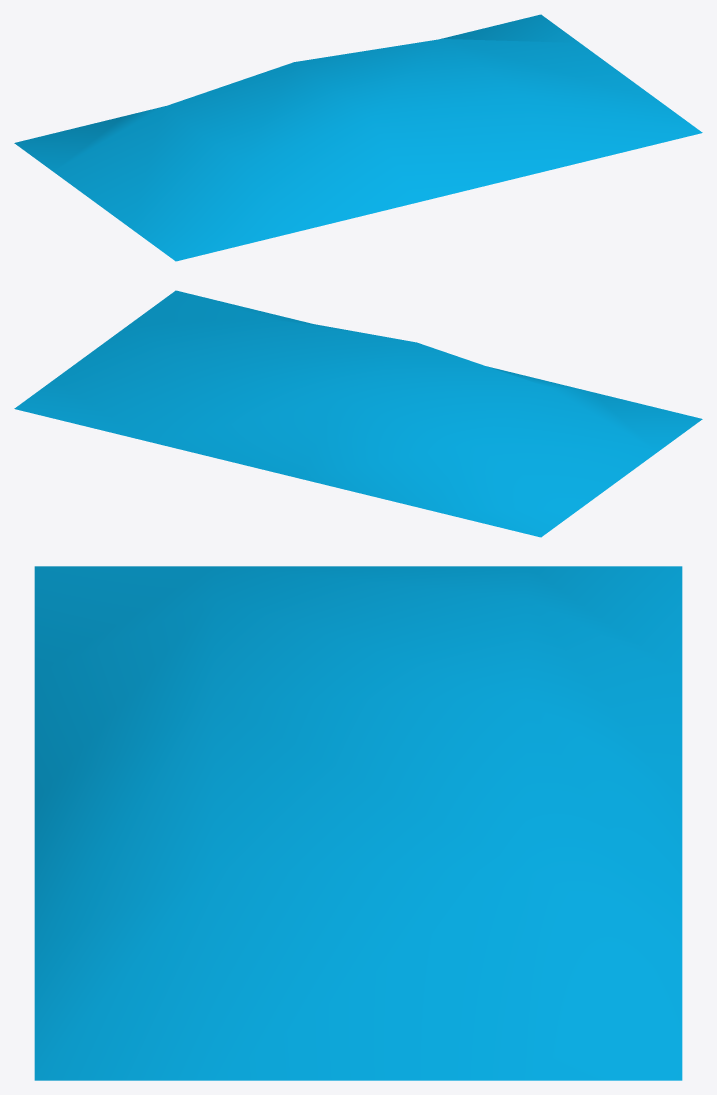
Rendered from Construction_Debris_Lod0.fbx.
3 views of the same model, one above another, from view 1: azimuth 30°, elevation 25°; view 2: azimuth 150°, elevation 25°; view 3: azimuth 270°, elevation 25° (orthographic). The views are drawn at different scales.
Visible parts, largest first — view 1: Construction_Debris_Lod0; view 2: Construction_Debris_Lod0; view 3: Construction_Debris_Lod0.
Part boxes in pixels (left/top/right/bottom): Construction_Debris_Lod0: left=14, top=14, right=702, bottom=261; Construction_Debris_Lod0: left=14, top=290, right=702, bottom=537; Construction_Debris_Lod0: left=34, top=566, right=682, bottom=1080.
Bounding box in the file's own units: 612 × 56.17 × 325.
